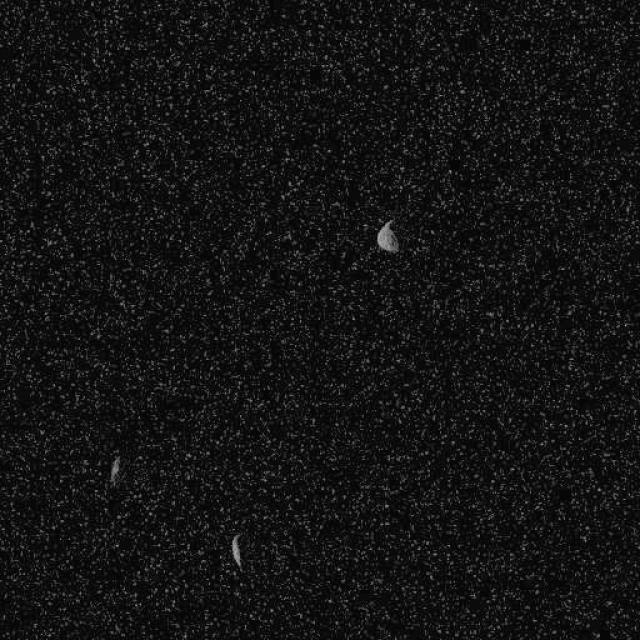D2: (375, 218, 399, 254), (230, 532, 244, 570), (109, 455, 121, 485)
